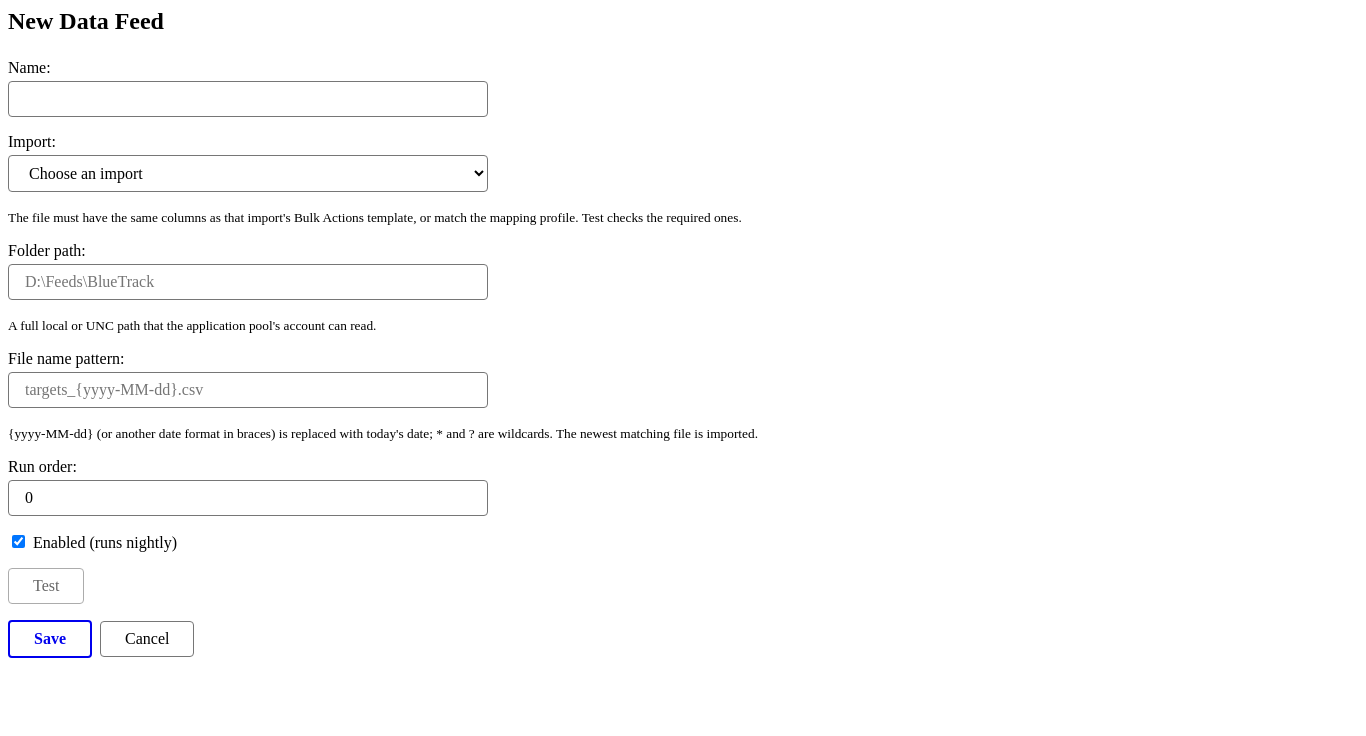
Test: DataFeedEdit.vue source system (D-212) › shows why a new source system was refused
The image size is (1366, 736).
Select "Account inventory" in the dropdown labelled "Import:" at (248, 174), box [8,155,488,192]
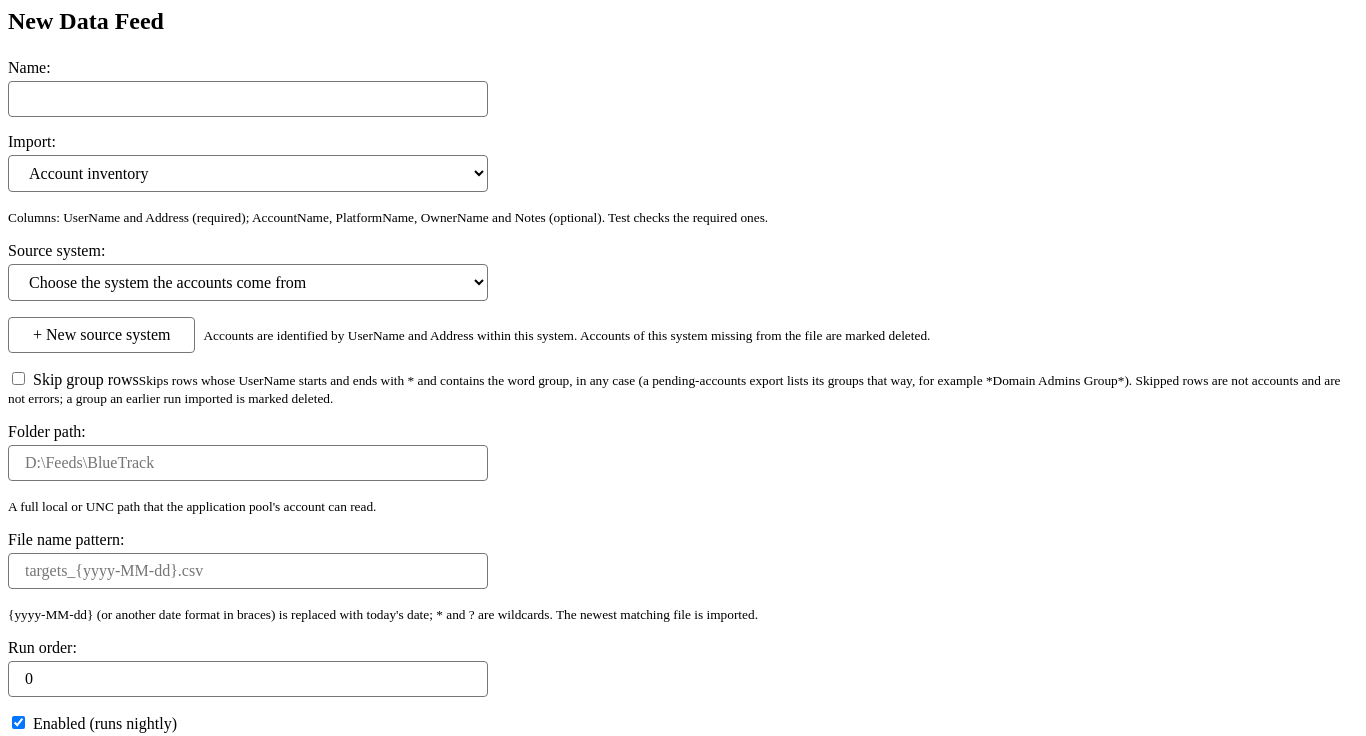
Click the button "+ New source system" at (102, 335), box [8,317,195,353]
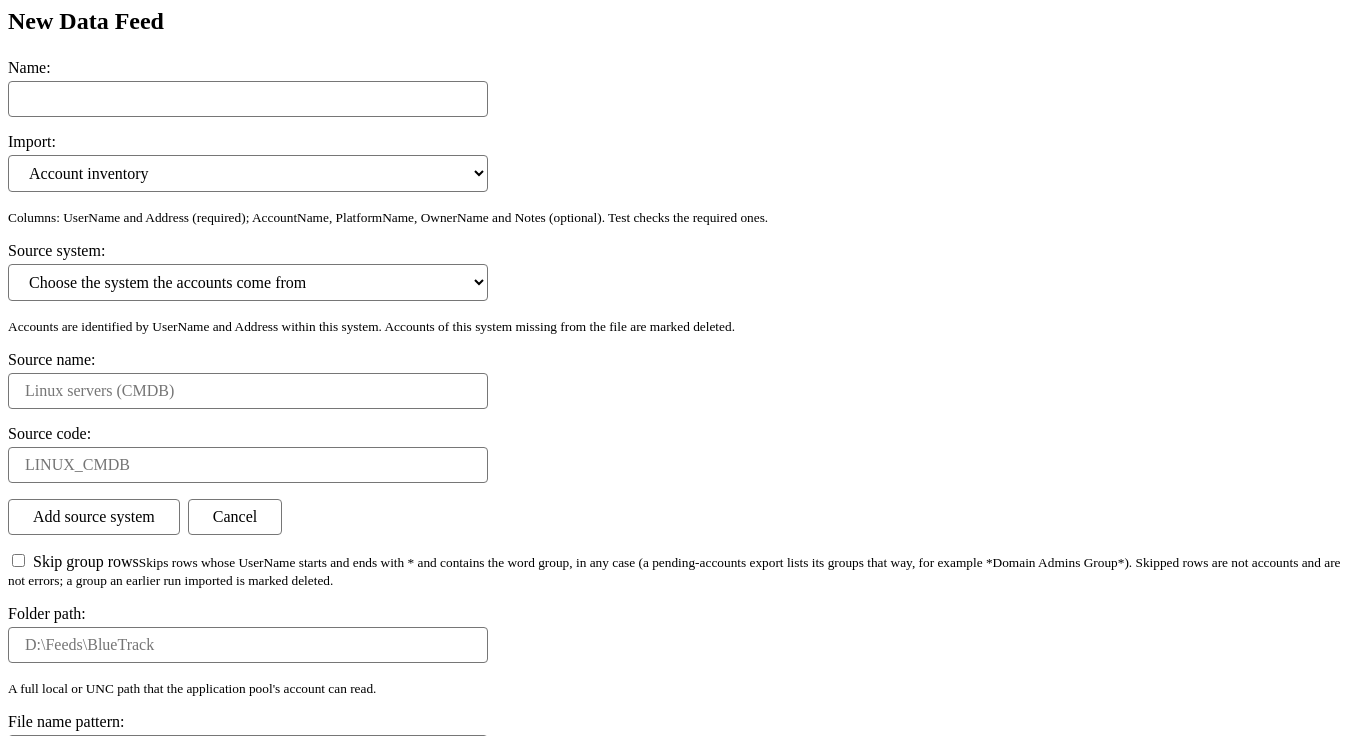
Click the button "Add source system" at (94, 517), box [8,499,180,535]
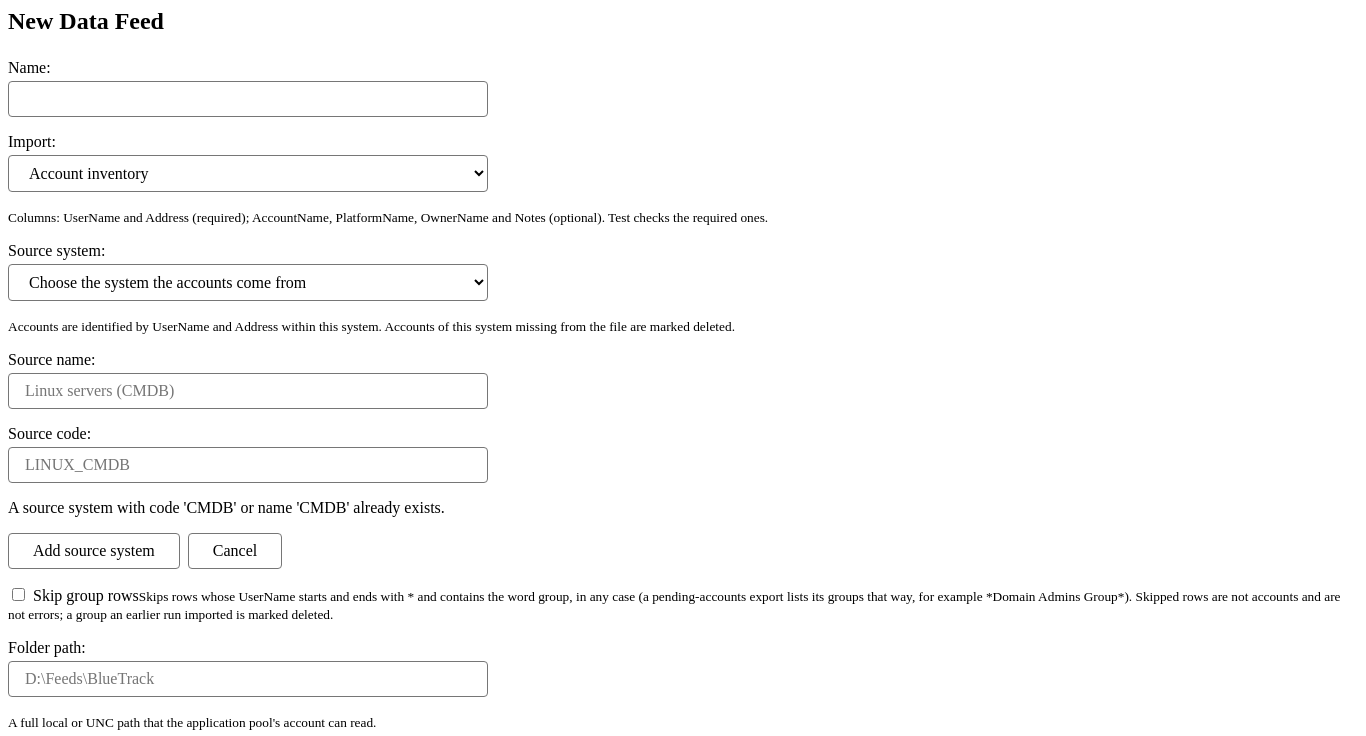
Expected: the message "A source system with code 'CMDB' or name 'CMDB' already exists." is shown, [8,499,445,516]
